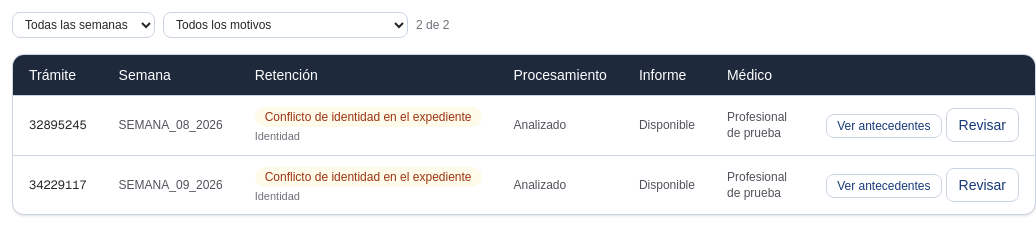
Test: Retenidos · gestión administrativa › se puede mirar UNA semana: el resto no estorba
Expected: the text "32895245" is shown, left=13, top=96, right=103, bottom=155
Expected: the text "34229117" is shown, left=13, top=155, right=103, bottom=214
Select "SEMANA_09_2026" in the dropdown with test id "filtro-semana": (84, 25) left=12, top=12, right=155, bottom=38
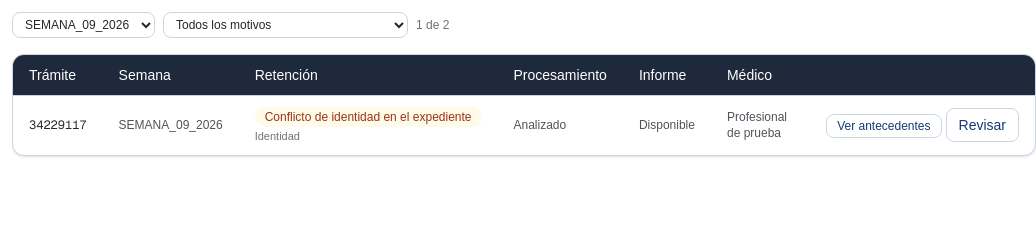
Expected: the text "34229117" is shown, left=13, top=96, right=103, bottom=155
Result: the text with test id "retenidos-total" reads "1 de 2" at left=416, top=17, right=449, bottom=33
Result: the text "32895245" is gone
